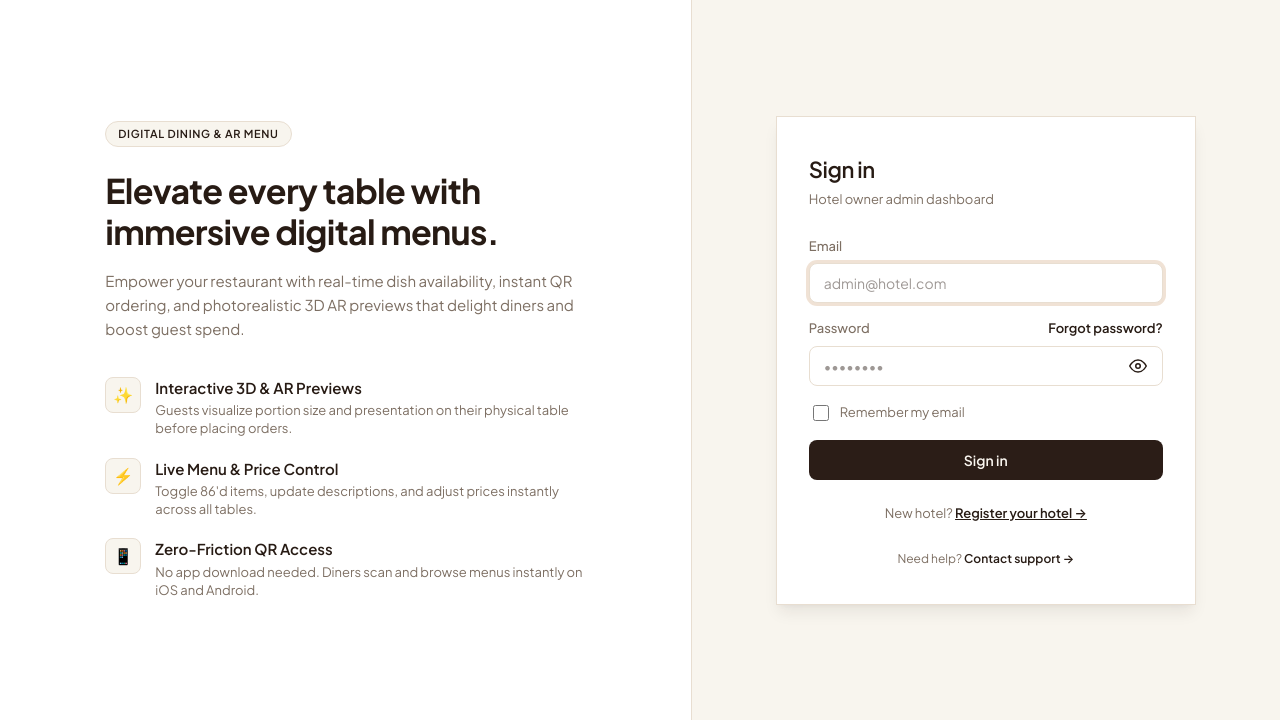
Test: Admin Authentication Suite (TC-ADM-001 to TC-ADM-020) › TC-ADM-003: Displays error message on invalid credentials
The width and height of the screenshot is (1280, 720).
Type "bad@hotel.com" into the field with placeholder "admin@hotel.com" at (986, 282), box [809, 262, 1163, 302]
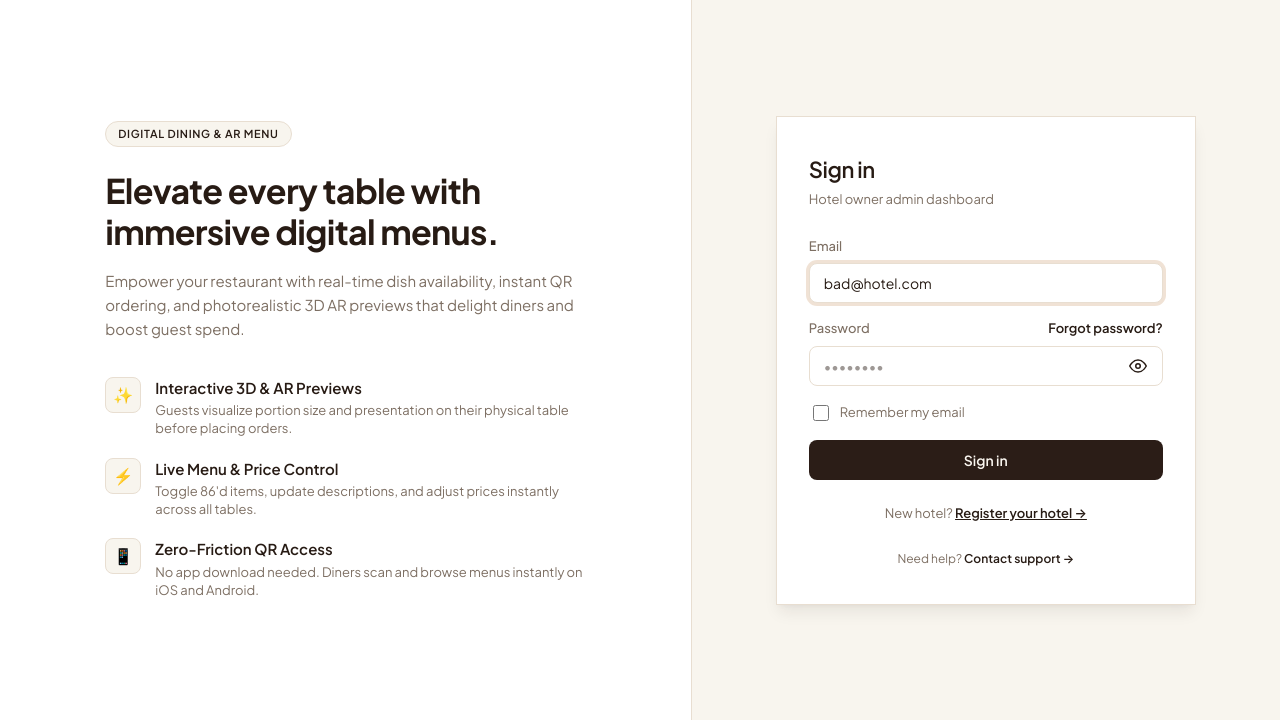
Type "wrongpass" into the password field with placeholder "••••••••" at (986, 366), box [809, 346, 1163, 386]
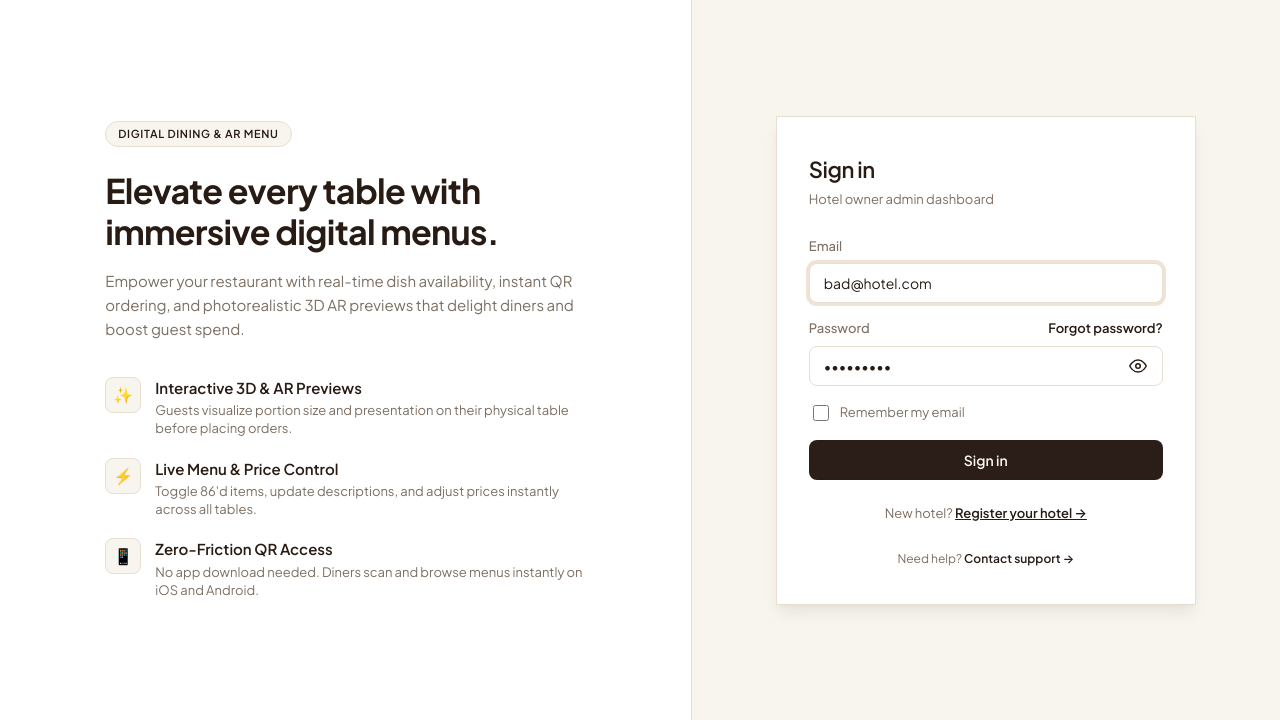
Click the button "Sign in" at (986, 460), box [809, 440, 1163, 480]
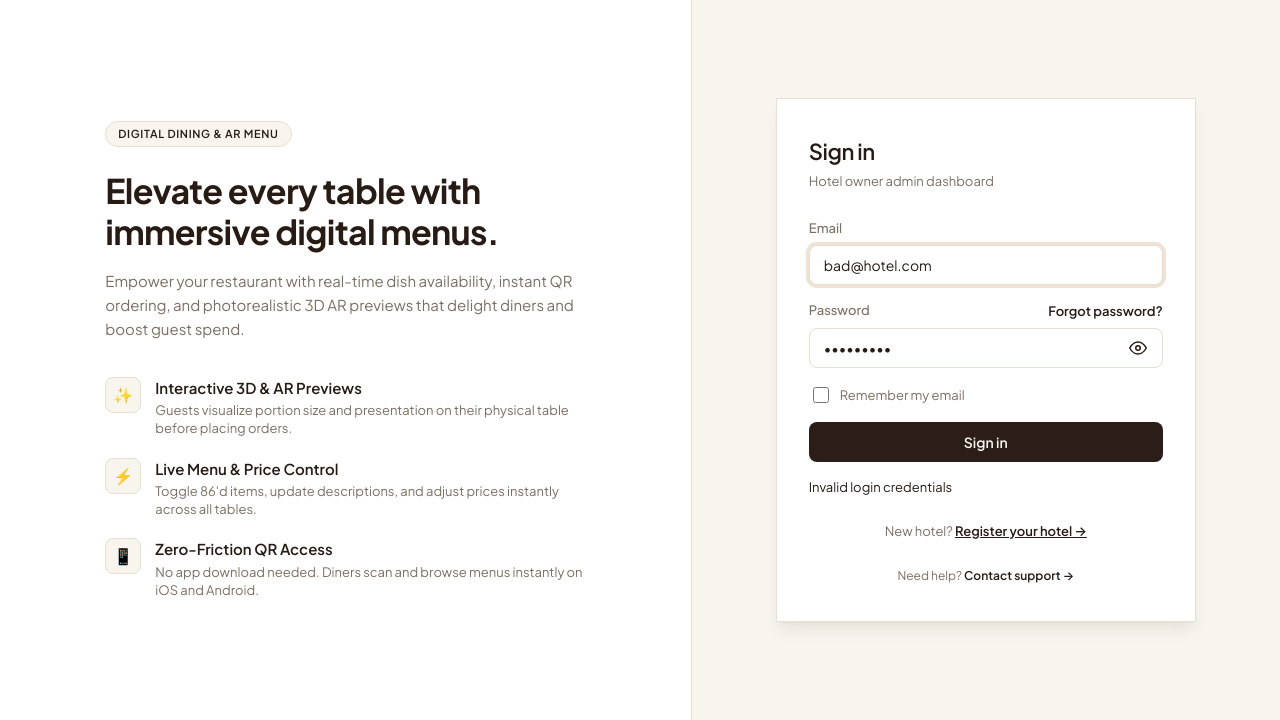
Expected: the text "Invalid login credentials" is shown, [809, 479, 952, 495]
